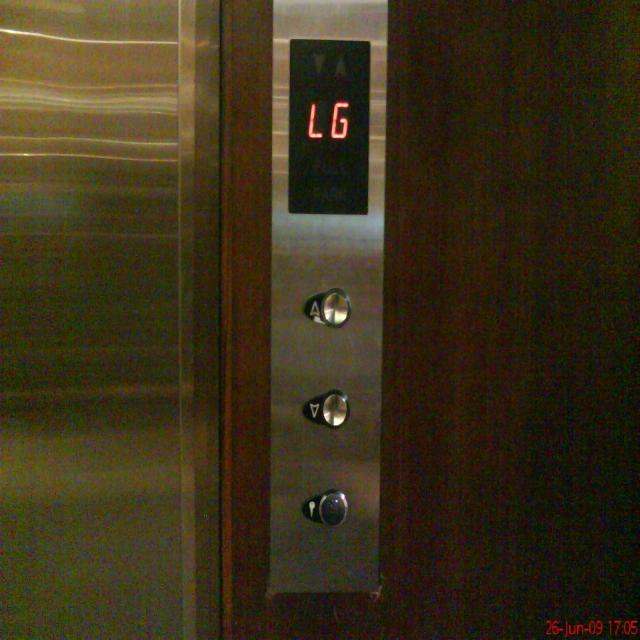down: (300, 384, 350, 430)
key: (298, 486, 349, 528)
led: (284, 34, 374, 218)
up: (302, 284, 352, 330)
